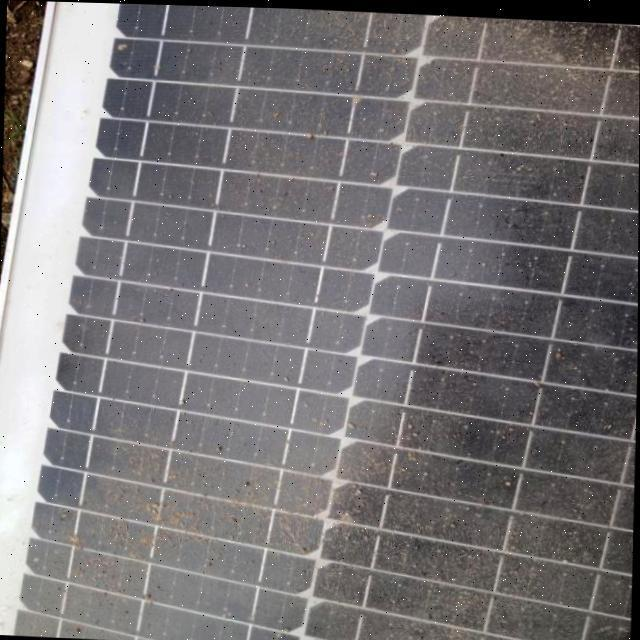Anomaly Solar Panel: (11, 3, 640, 640)
Surface Contaminant: (12, 3, 640, 640)
